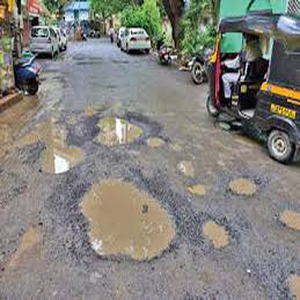pothole: (78, 170, 181, 257), (23, 116, 82, 171), (94, 111, 146, 149), (198, 217, 236, 249), (229, 174, 261, 198), (147, 137, 166, 147)
